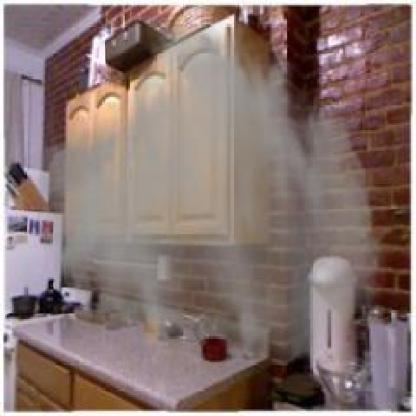Smoke: (31, 5, 390, 368)
